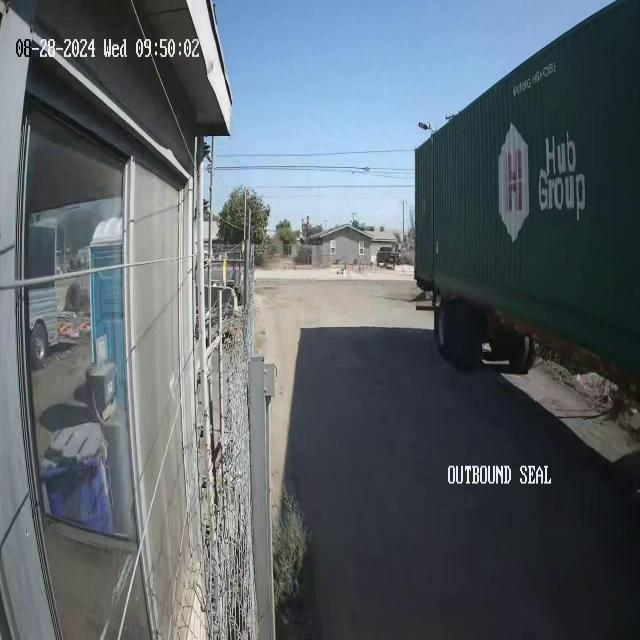TRUCK_IN: (413, 1, 639, 393)
